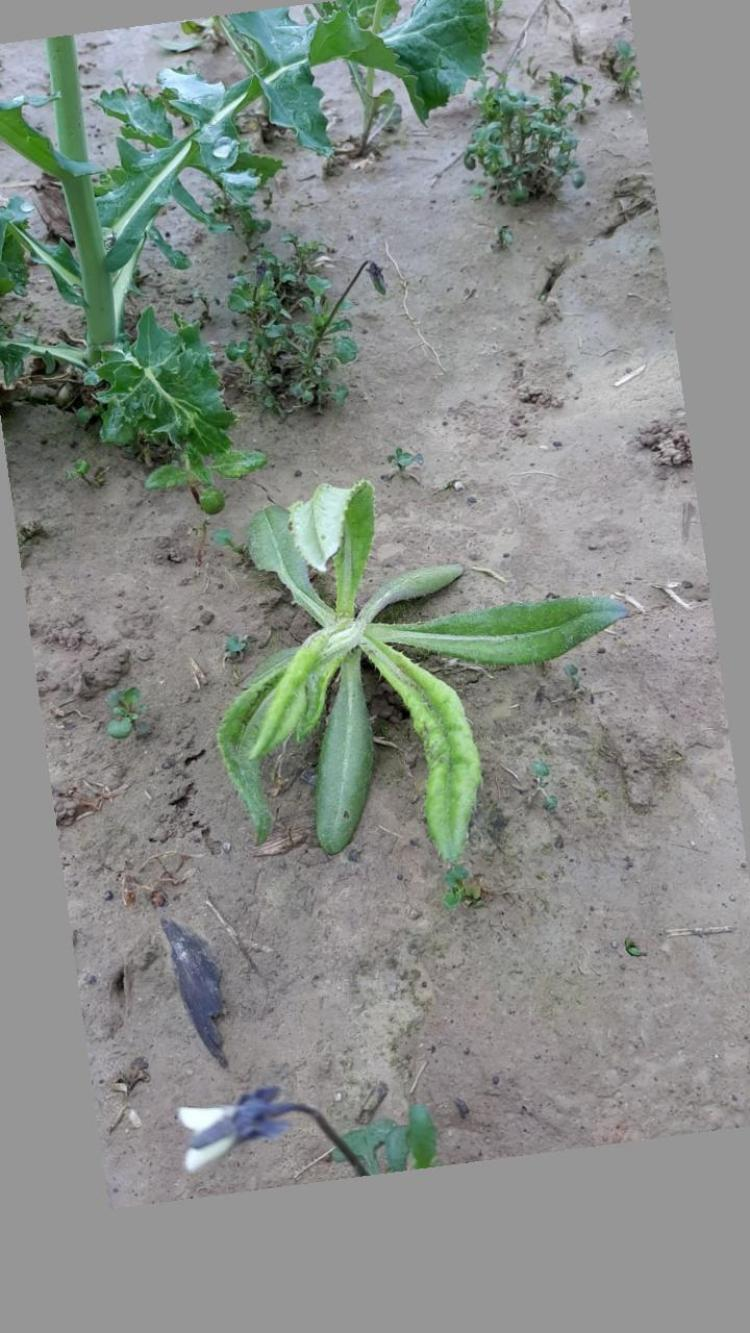osot: (214, 477, 636, 862)
